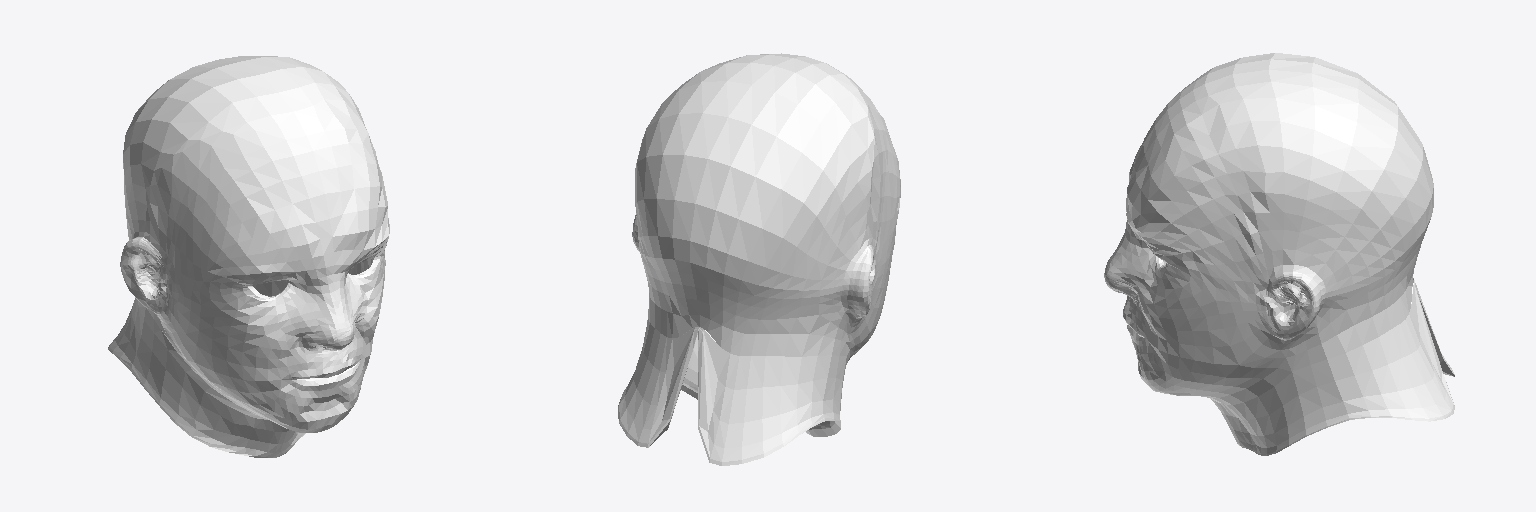
The model's file is Mask.obj.
The picture shows the model from 3 angles: view 1: azimuth 30°, elevation 25°; view 2: azimuth 150°, elevation 25°; view 3: azimuth 270°, elevation 25°; orthographic projection.
Visible parts, largest first — view 1: Mask; view 2: Mask; view 3: Mask.
Boxes of the visible parts, box(x1,y1,x2,y2) form: Mask: box(108, 56, 389, 457); Mask: box(618, 53, 900, 465); Mask: box(1104, 53, 1454, 455).
Bounding box in the file's own units: 19.75 × 29.76 × 25.46.